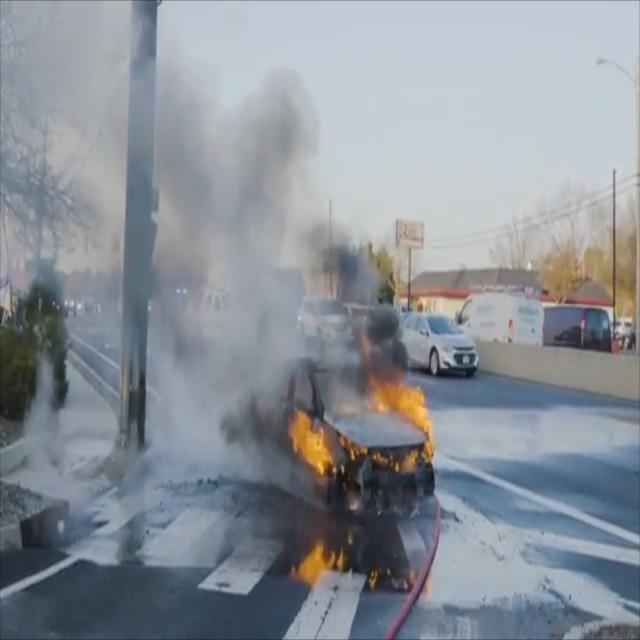fire: (282, 352, 436, 496), (288, 538, 411, 587)
